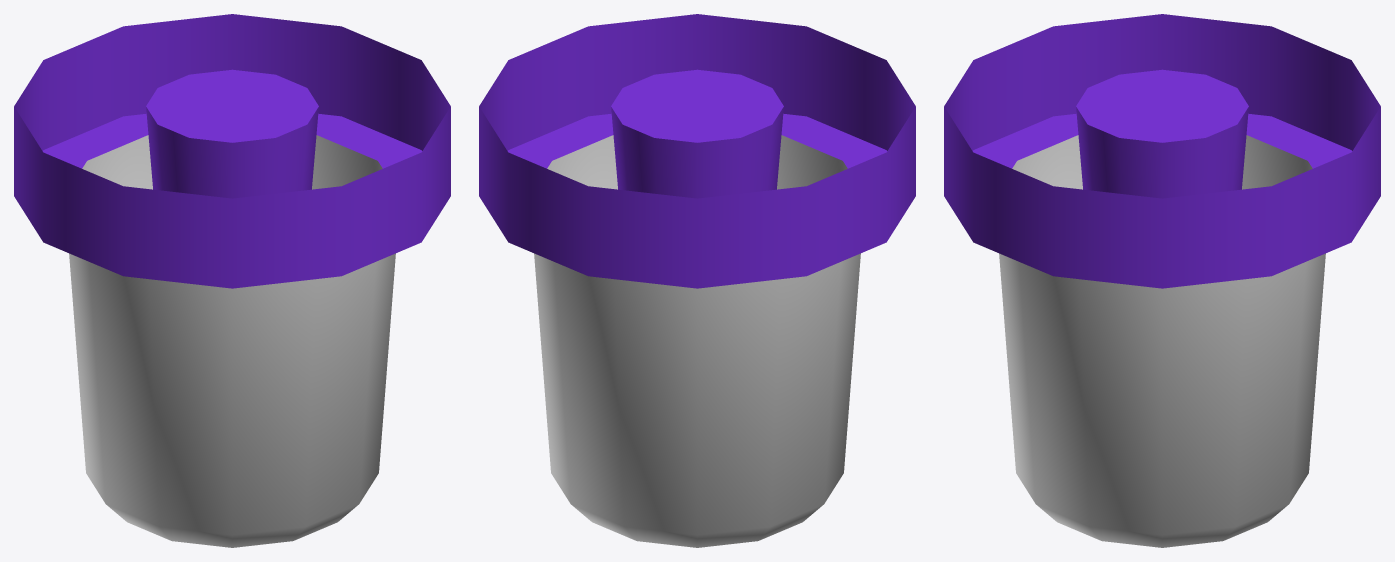
The model's file is SM_alarm.fbx.
3 renders of one model, left to right at view 1: azimuth 30°, elevation 25°; view 2: azimuth 150°, elevation 25°; view 3: azimuth 270°, elevation 25°, orthographic.
Parts seen in each view (by area): view 1: Circle, Circle.001; view 2: Circle, Circle.001; view 3: Circle, Circle.001.
Boxes of the visible parts, x1=… form: Circle: x1=14, y1=14, x2=450, y2=288; Circle.001: x1=69, y1=135, x2=395, y2=547; Circle: x1=479, y1=14, x2=915, y2=288; Circle.001: x1=534, y1=135, x2=860, y2=547; Circle: x1=944, y1=14, x2=1380, y2=288; Circle.001: x1=999, y1=135, x2=1325, y2=547.
Bounding box in the file's own units: 26.02 × 25.66 × 26.02.
